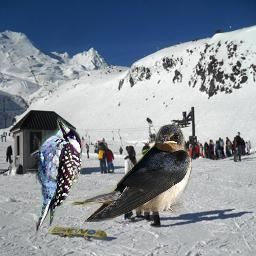Swallow: (70, 124, 192, 222)
Woodpecker: (18, 114, 91, 240)
